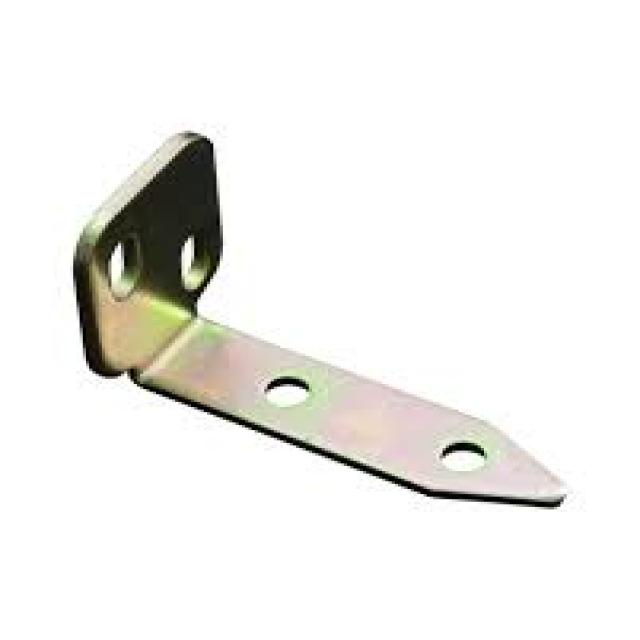holes: (107, 235, 145, 295), (179, 230, 213, 289), (261, 374, 309, 407), (436, 440, 487, 471)
